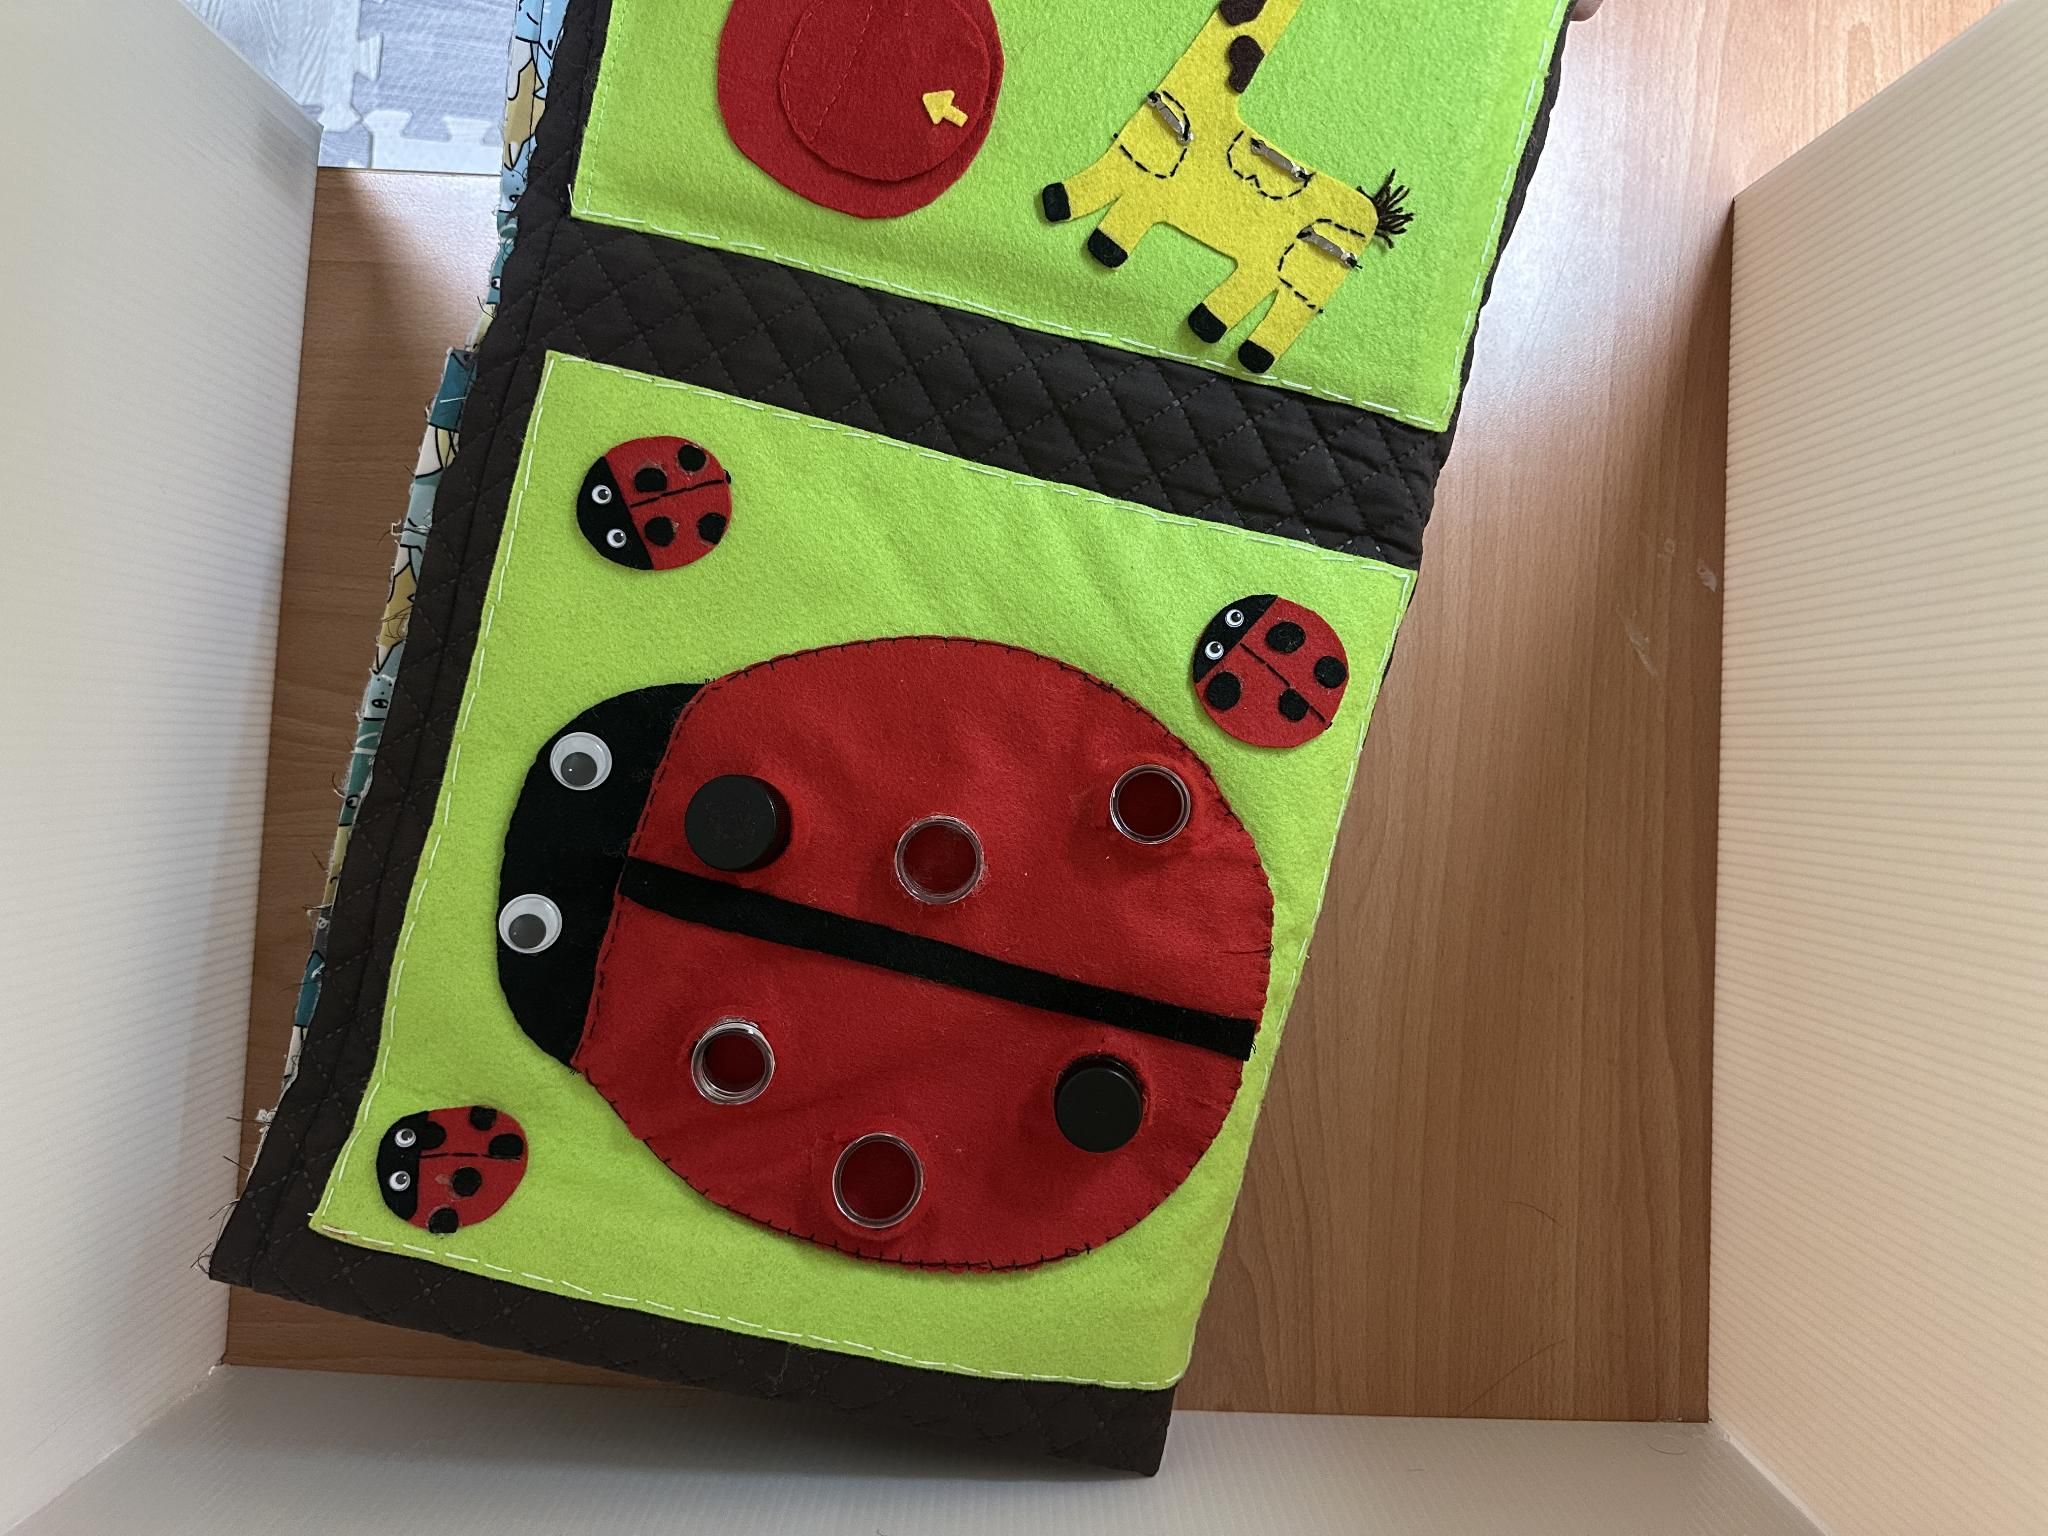cap_ok: (1037, 1042, 1177, 1173), (677, 760, 808, 886)
